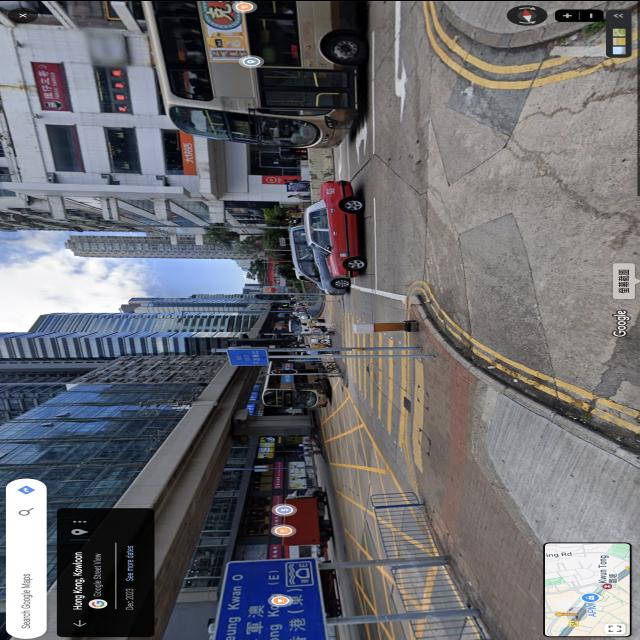Direction-Sign: (215, 556, 327, 640)
Order-Sign: (229, 350, 265, 364)
Street-Direction-Sign: (279, 237, 285, 244)
